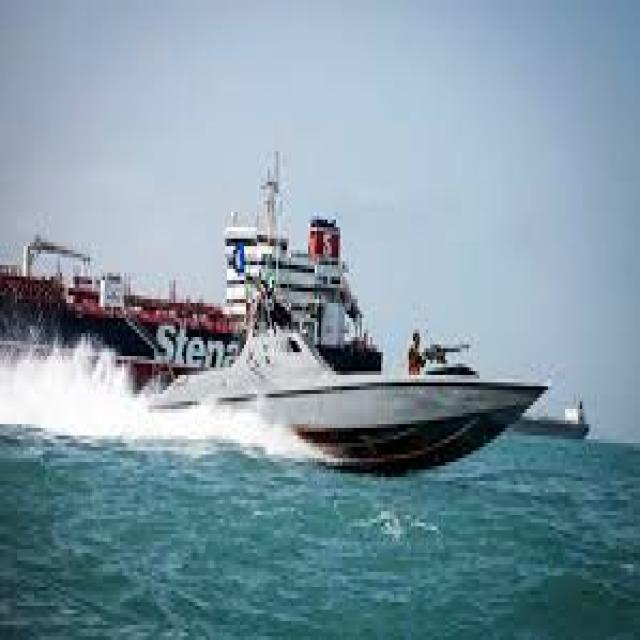cargoship: (0, 163, 372, 390), (514, 384, 592, 442)
houseboat: (133, 277, 542, 472)
